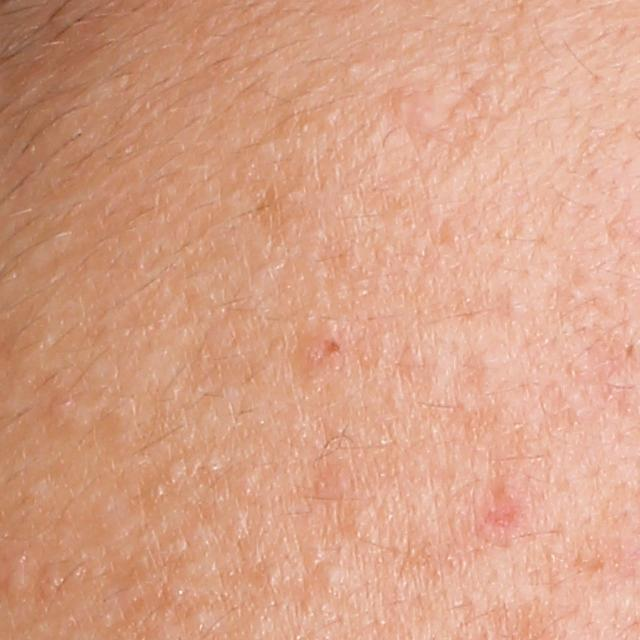comedo: (2, 569, 33, 607), (342, 54, 368, 80), (318, 565, 342, 591)
